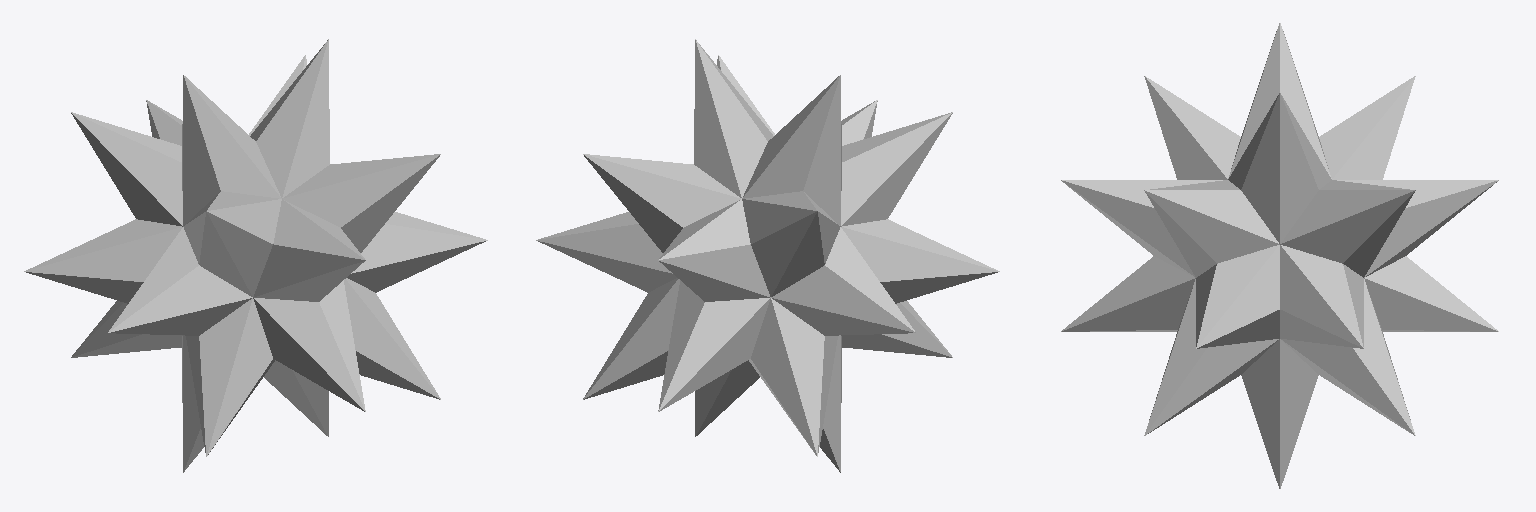
Rendered from GreatStellapentakisDodecahedron.obj.
3 renders of one model, left to right at view 1: azimuth 30°, elevation 25°; view 2: azimuth 150°, elevation 25°; view 3: azimuth 270°, elevation 25°, orthographic.
Size of the model in its own units: 4.85 by 4.85 by 4.85.